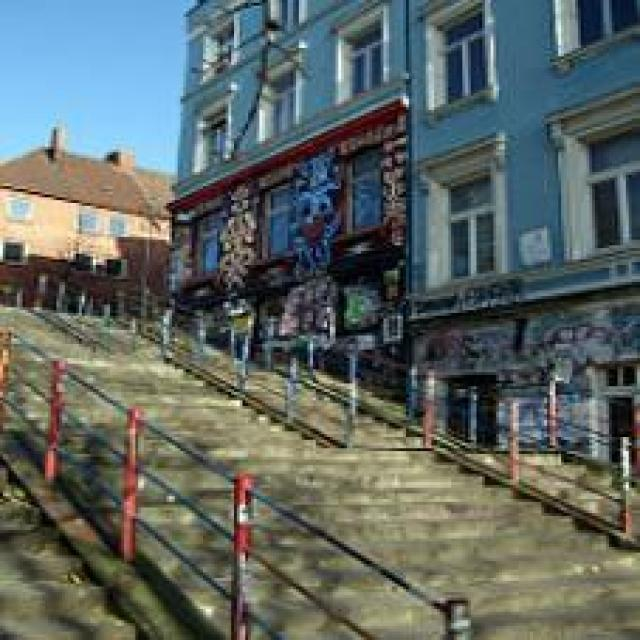upstair: (212, 424, 610, 630)
